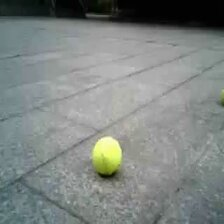tennis: (92, 136, 121, 172)
